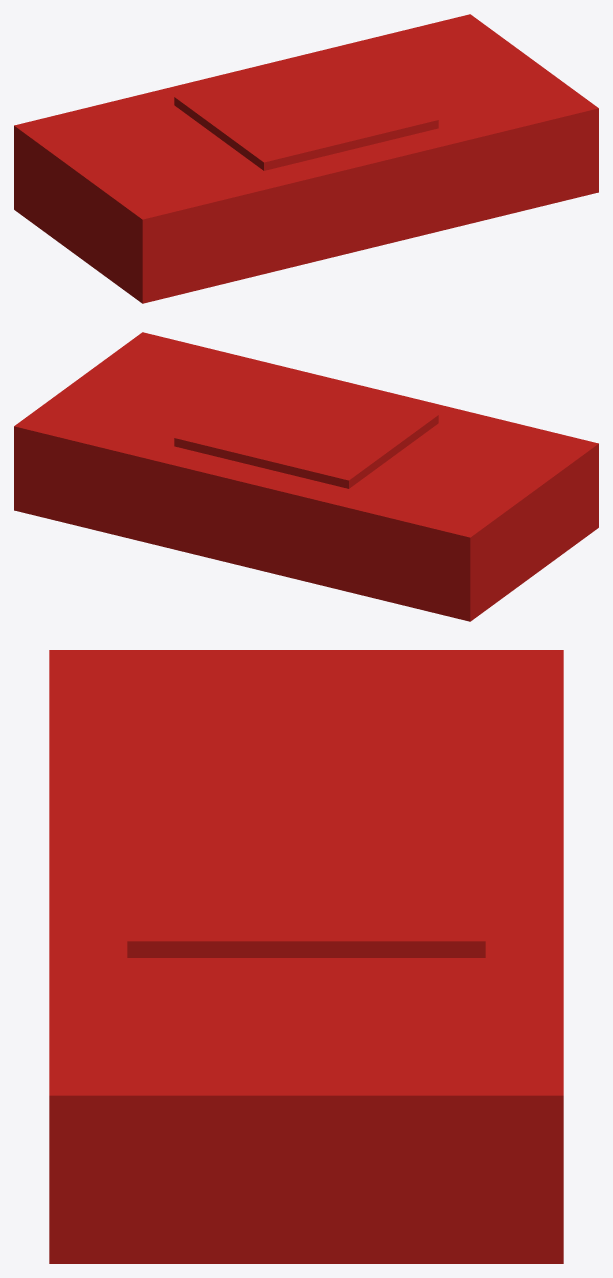
3 views of the same model, one above another, from view 1: azimuth 30°, elevation 25°; view 2: azimuth 150°, elevation 25°; view 3: azimuth 270°, elevation 25° (orthographic). The views are drawn at different scales.
Parts seen in each view (by area): view 1: pc04; view 2: pc04; view 3: pc04.
Part boxes in pixels (bbox=[...]): pc04: bbox=[14, 14, 598, 303]; pc04: bbox=[14, 332, 598, 621]; pc04: bbox=[49, 650, 563, 1263].
Size of the model in its own units: 420 by 81.4 by 205.
